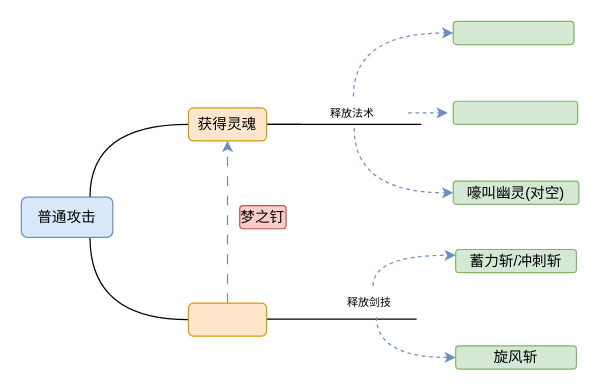
The diagram is 600 pixels wide and 390 high, and some of its shapes have lost their labels. The shapes that lost their labels are listed below. From the top down, each one's centre as x and y in pixels, then its label:
At point 513,32: "荒芜俯冲(对地)".
At point 515,112: "复仇之魂(水平)".
At point 227,319: "蓄力".
